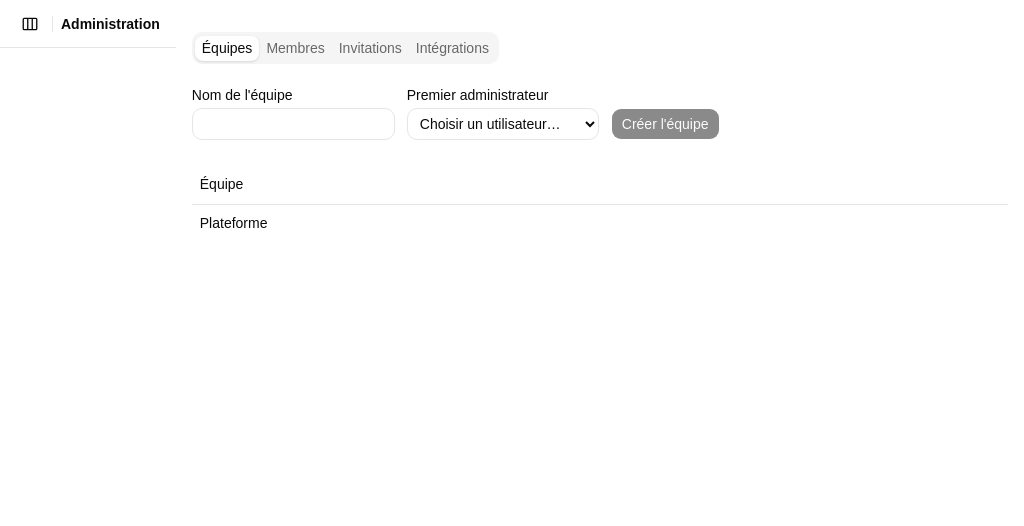
Test case: un org_admin voit équipes, membres et le lien d'invitation une seule fois
Expected: the tab "Équipes" is shown, top-left (195, 36), bottom-right (259, 60)
Expected: the cell "Plateforme" is shown, top-left (192, 204), bottom-right (1008, 240)
Click the tab "Membres" at (296, 48), box top-left (259, 36), bottom-right (332, 60)
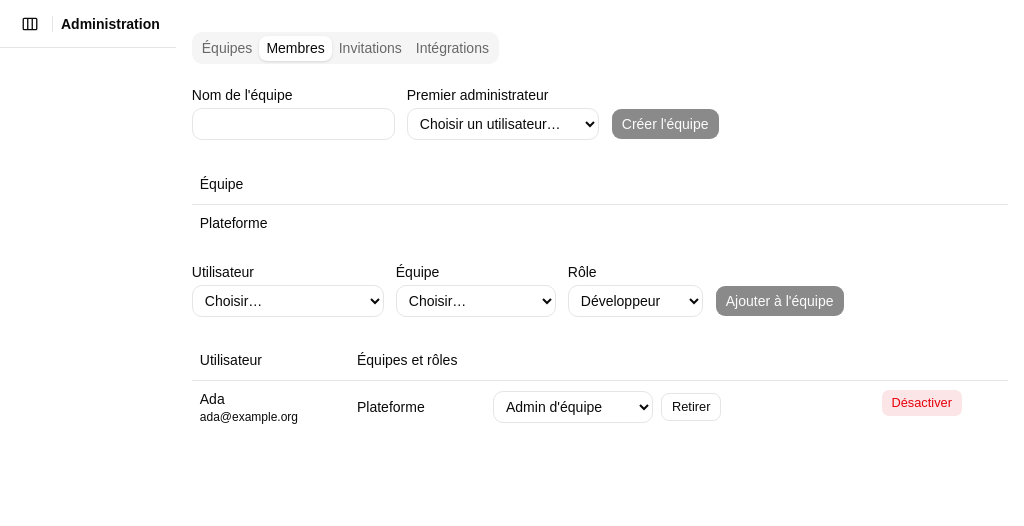
Now the dropdown named "Rôle de Ada dans Plateforme" shows "Admin d'équipe", box top-left (493, 391), bottom-right (653, 423)
Click the tab "Invitations" at (370, 48), box top-left (332, 36), bottom-right (409, 60)
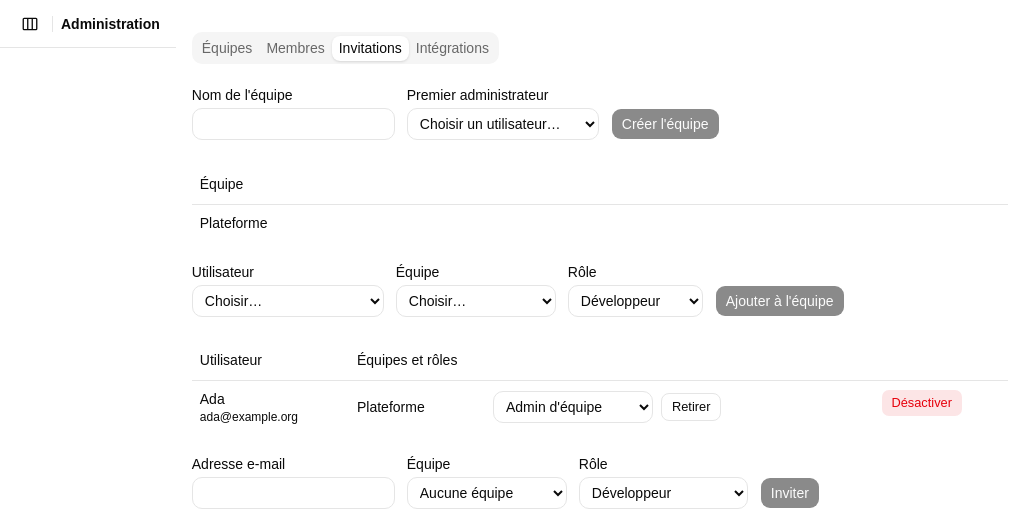
Type "x@y.z" into the field labelled "Adresse e-mail" at (293, 493), box top-left (192, 477), bottom-right (395, 509)
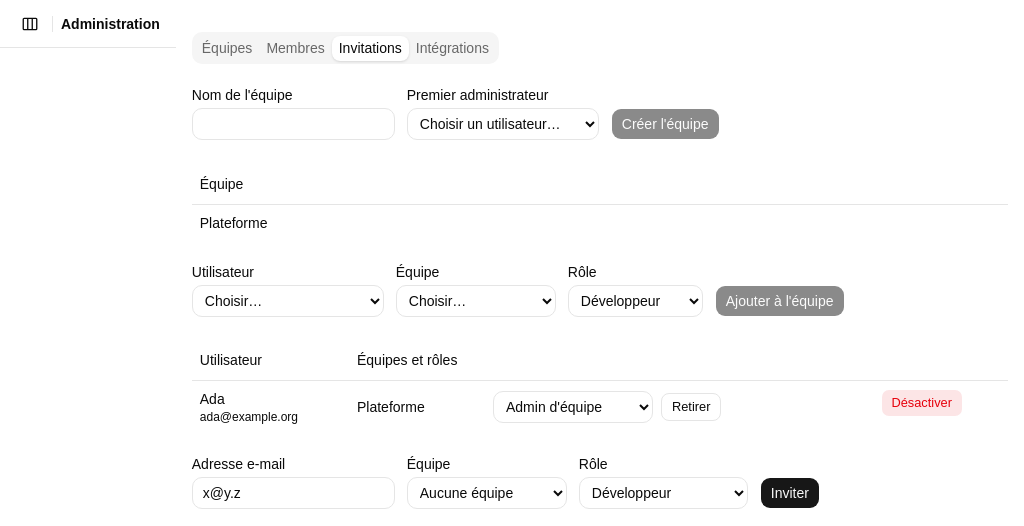
Click the button "Inviter" at (790, 493), box top-left (760, 477), bottom-right (820, 509)
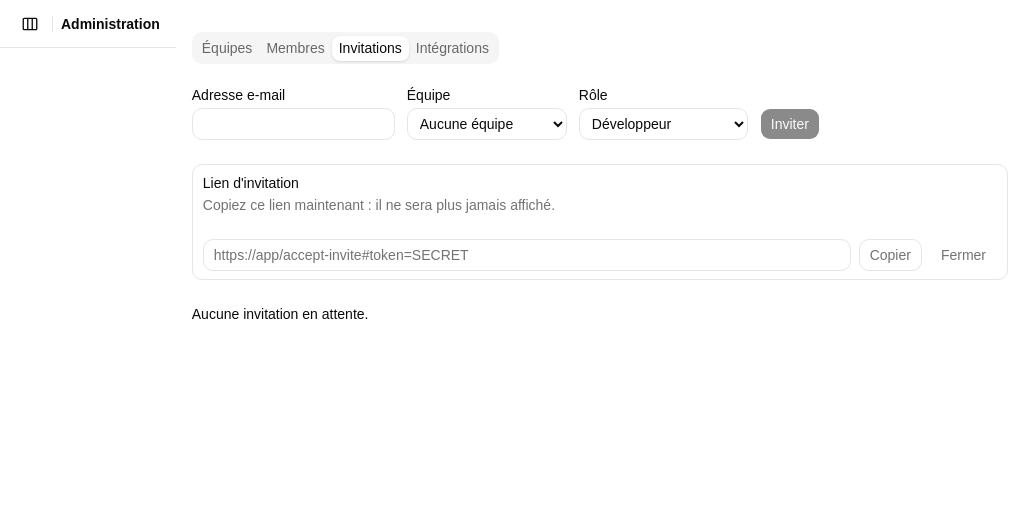
Now the field named "Lien d'invitation" holds "https://app/accept-invite#token=SECRET", box top-left (203, 239), bottom-right (851, 271)
Now the button "Copier" is shown, box top-left (859, 239), bottom-right (922, 271)
Now the text "Copiez ce lien maintenant : il ne sera plus jamais affiché." is shown, box top-left (203, 197), bottom-right (555, 213)
